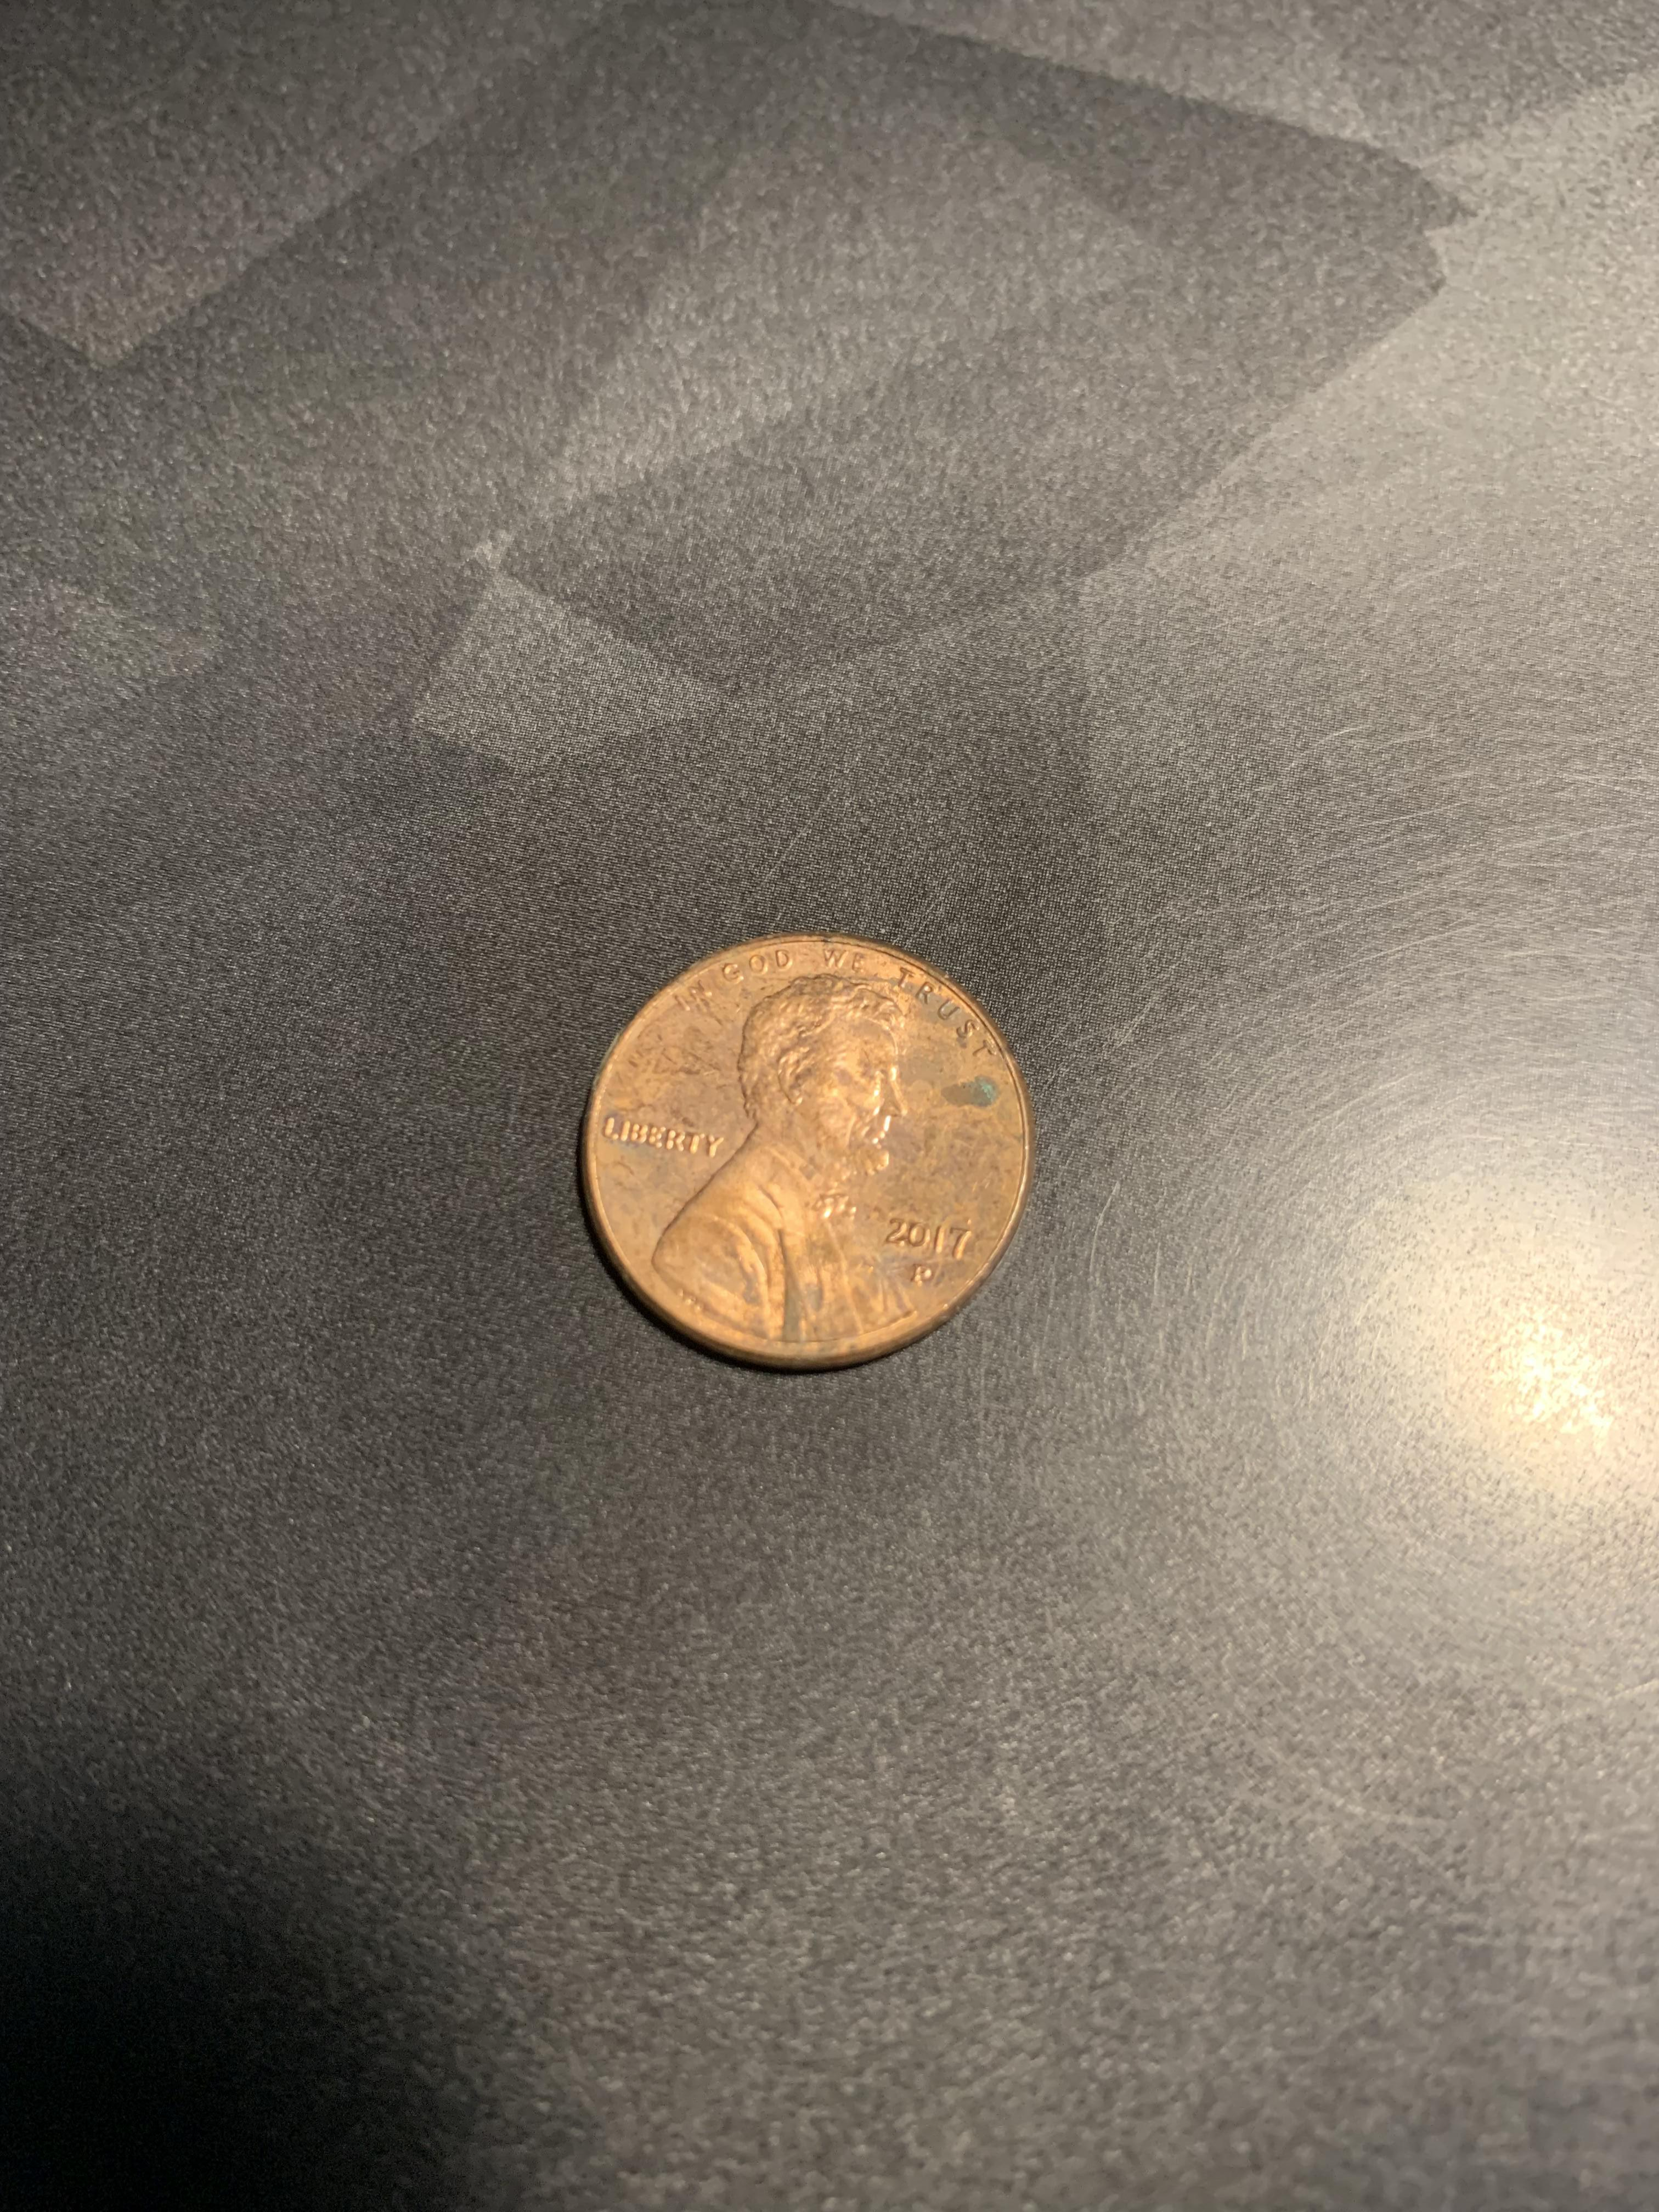Penny: (552, 916, 1051, 1381)
